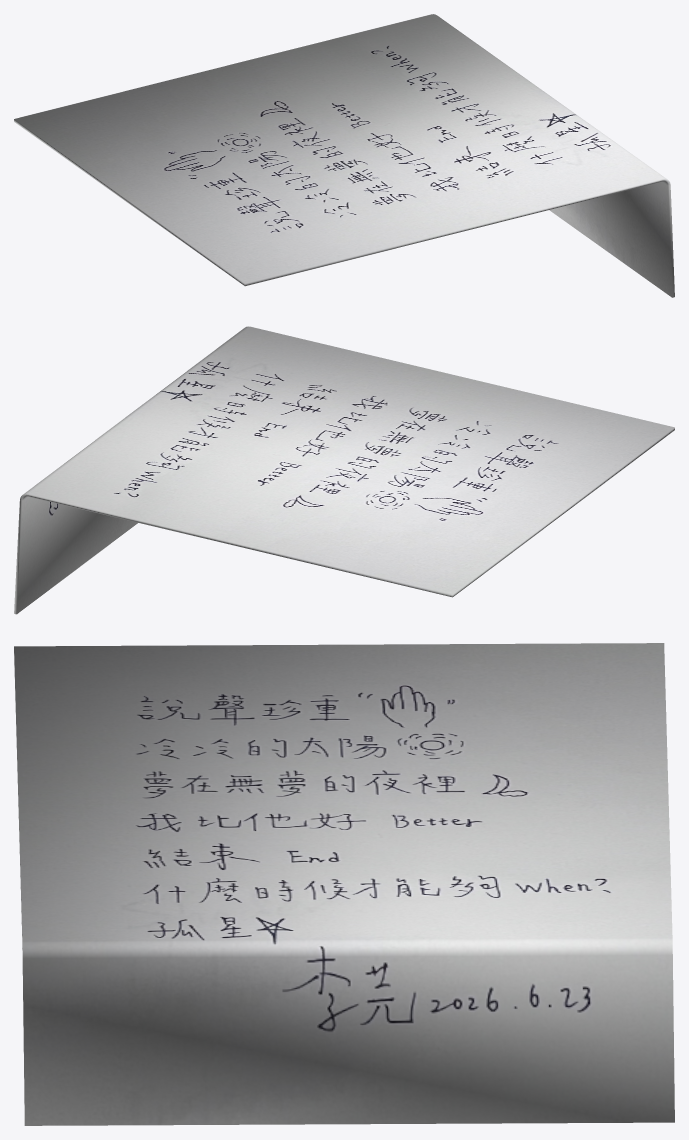
File: 李芫給王傑的手寫信.fbx
The picture shows the model from 3 angles, top to bottom: view 1: azimuth 30°, elevation 25°; view 2: azimuth 150°, elevation 25°; view 3: azimuth 270°, elevation 25°; orthographic projection. The views are drawn at different scales.
Visible parts, largest first — view 1: Plane; view 2: Plane; view 3: Plane.
Part boxes in pixels (<box>): Plane: <box>14,14,674,297</box>; Plane: <box>14,326,674,614</box>; Plane: <box>14,643,674,1125</box>.
Bounding box in the file's own units: 136 × 36.13 × 123.
